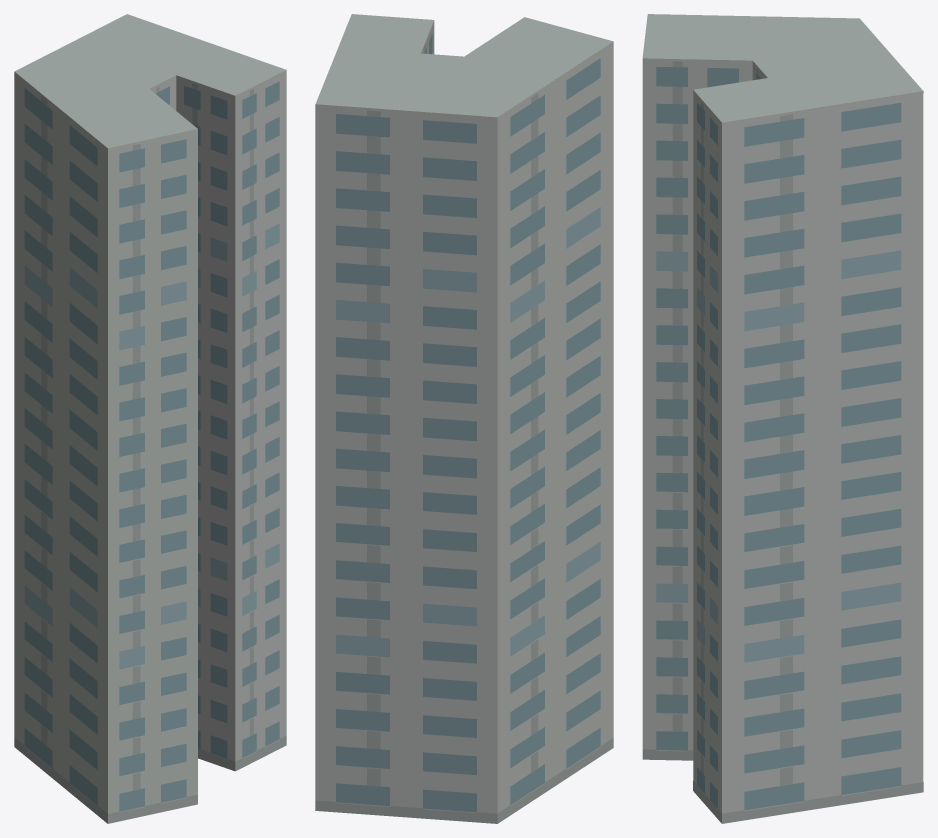
Rendered from residential-e964c8be-5545-4674-bbc4-3f7741a19b68.glb.
The picture shows the model from 3 angles, left to right: view 1: azimuth 30°, elevation 25°; view 2: azimuth 150°, elevation 25°; view 3: azimuth 270°, elevation 25°; orthographic projection. The views are drawn at different scales.
Visible parts, largest first — view 1: residential-e964c8be-5545-4674-bbc4-3f7741a19b68.tmp; view 2: residential-e964c8be-5545-4674-bbc4-3f7741a19b68.tmp; view 3: residential-e964c8be-5545-4674-bbc4-3f7741a19b68.tmp.
Part boxes in pixels (<box>): residential-e964c8be-5545-4674-bbc4-3f7741a19b68.tmp: <box>14,14,286,823</box>; residential-e964c8be-5545-4674-bbc4-3f7741a19b68.tmp: <box>315,14,613,823</box>; residential-e964c8be-5545-4674-bbc4-3f7741a19b68.tmp: <box>642,14,923,823</box>.
Bounding box in the file's own units: 22.61 × 68 × 24.7.
